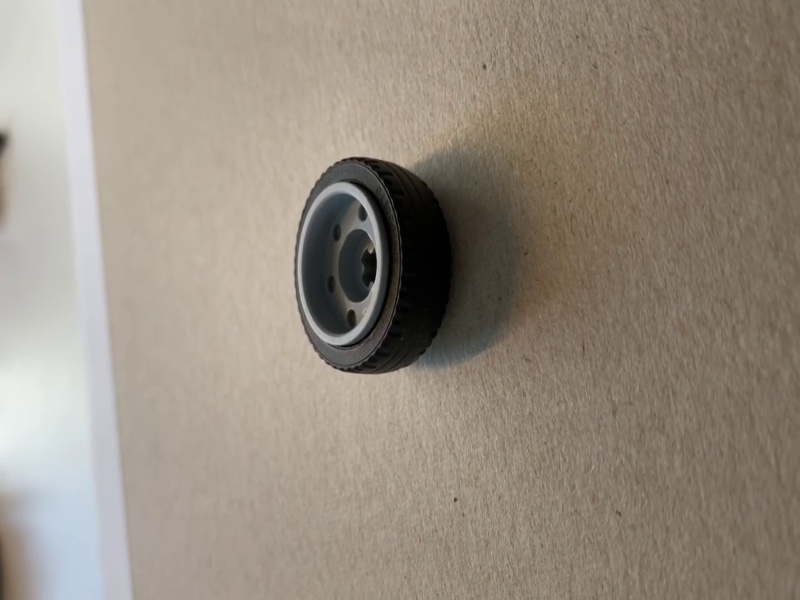tire: (292, 155, 461, 379)
